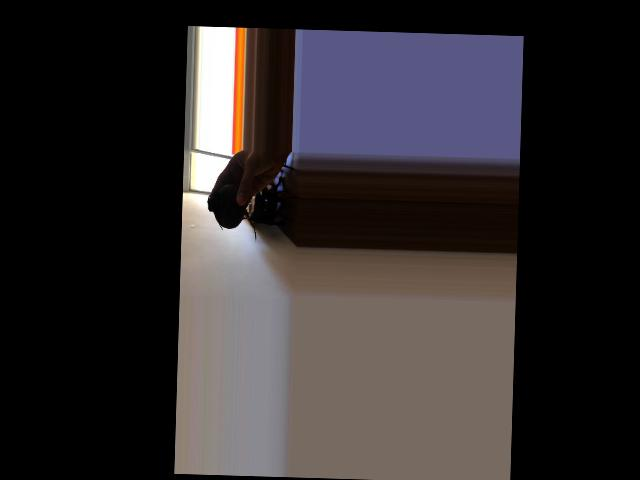beet: (206, 184, 257, 242)
